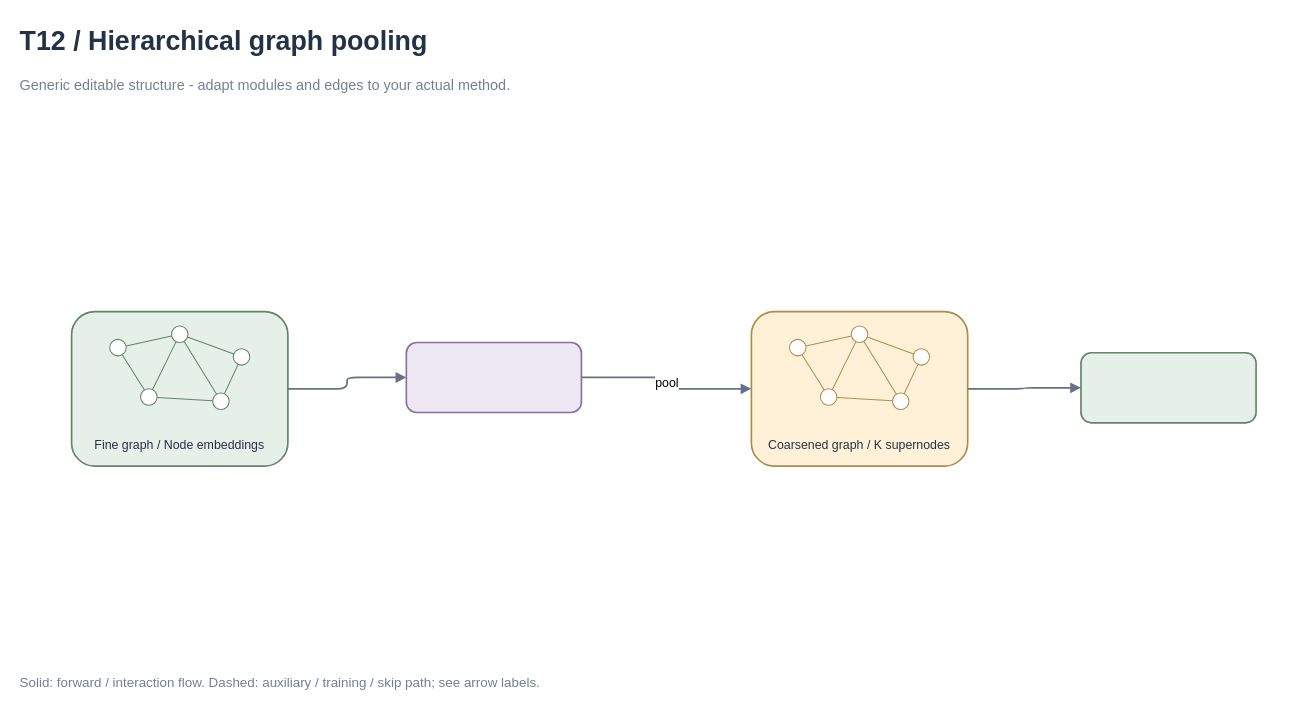
Image size: 1302x716. Some labels were removed from this diagram. Here are the shapes that lost their labels. From the top down, the box of each, then its label:
(405, 341, 582, 413): Learned assignment S: N x K
(1080, 351, 1256, 423): Graph readout
